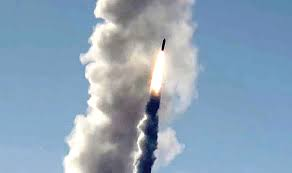ten_lua: (155, 35, 173, 61)
